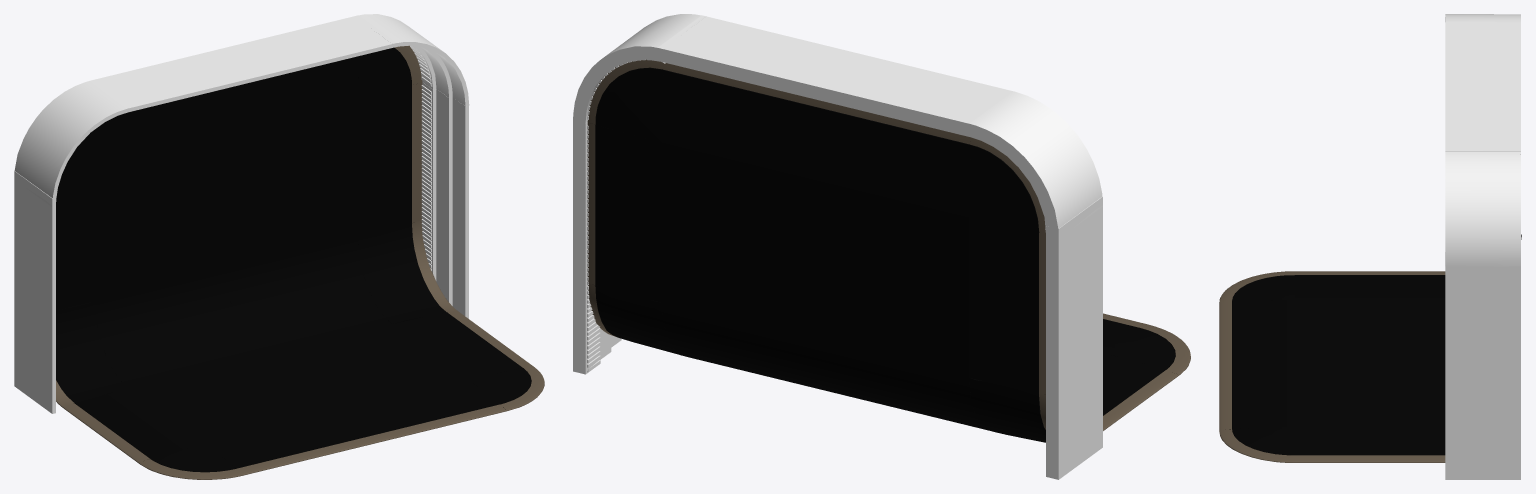
The model's file is SM_Demo_ExamplePodium.FBX.
3 views of the same model, side by side, from view 1: azimuth 30°, elevation 25°; view 2: azimuth 150°, elevation 25°; view 3: azimuth 270°, elevation 25° (orthographic). The views are drawn at different scales.
Parts seen in each view (by area): view 1: SM_Demo_SketchIt_ExamplePodium; view 2: SM_Demo_SketchIt_ExamplePodium; view 3: SM_Demo_SketchIt_ExamplePodium.
Part boxes in pixels (x1=…): SM_Demo_SketchIt_ExamplePodium: x1=14, y1=14, x2=544, y2=479; SM_Demo_SketchIt_ExamplePodium: x1=573, y1=14, x2=1190, y2=479; SM_Demo_SketchIt_ExamplePodium: x1=1219, y1=14, x2=1521, y2=479.
Size of what is drawn, in the model's own units: 633 by 401 by 429.
